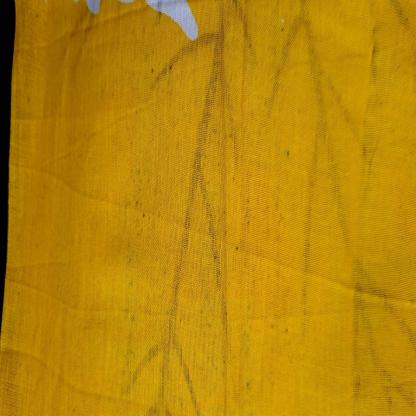spot: (128, 163, 148, 242), (242, 326, 254, 400), (230, 233, 244, 267), (148, 54, 162, 80), (211, 247, 222, 279), (153, 0, 167, 23), (282, 142, 293, 163), (275, 23, 287, 36), (167, 61, 177, 76)
